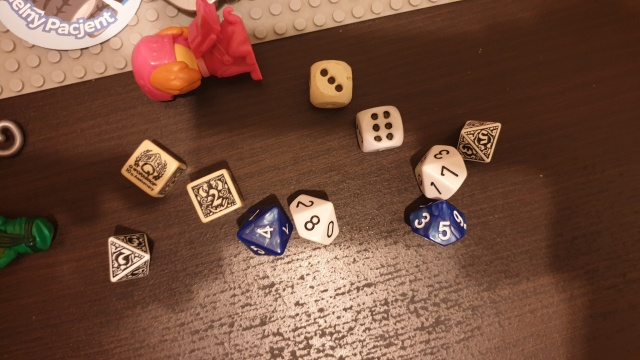d10-4: (238, 199, 293, 261)
d10-5: (403, 197, 477, 248)
d10-7: (411, 141, 471, 201)
d10-8: (287, 189, 345, 249)
d6-3: (305, 58, 355, 110)
d6-6: (352, 102, 408, 157)
d6p-2: (187, 173, 244, 226)
d6p-6: (118, 141, 185, 202)
d8p-2: (97, 228, 158, 285)
d8p-5: (455, 113, 505, 169)
